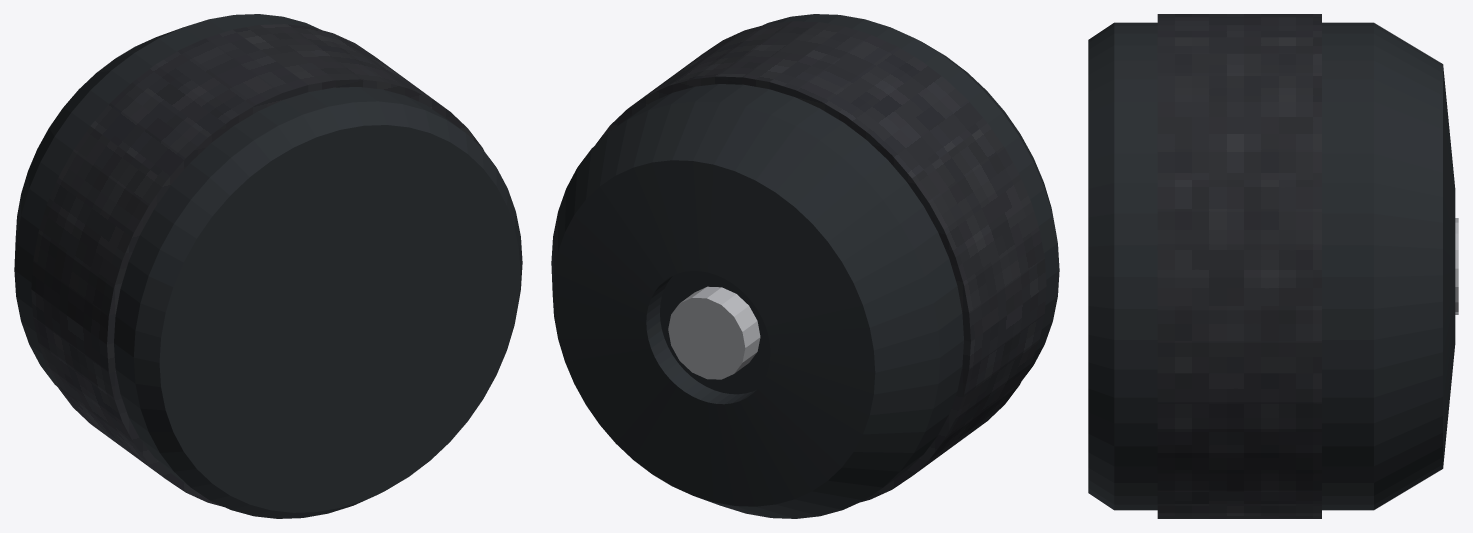
Rendered from tampa_tubo_12.glb.
3 views of the same model, side by side, from view 1: azimuth 30°, elevation 25°; view 2: azimuth 150°, elevation 25°; view 3: azimuth 270°, elevation 25° (orthographic). The views are drawn at different scales.
Visible parts, largest first — view 1: tampa_tubo_12_aco_oxidado, tampa_tubo_12_recartilhado; view 2: tampa_tubo_12_aco_oxidado, tampa_tubo_12_recartilhado, tampa_tubo_12_aco_inox; view 3: tampa_tubo_12_aco_oxidado, tampa_tubo_12_recartilhado.
Boxes of the visible parts, left/top/right/bottom form: tampa_tubo_12_aco_oxidado: left=14, top=14, right=522, bottom=518; tampa_tubo_12_recartilhado: left=31, top=24, right=483, bottom=506; tampa_tubo_12_aco_oxidado: left=551, top=14, right=1059, bottom=518; tampa_tubo_12_recartilhado: left=595, top=21, right=1046, bottom=502; tampa_tubo_12_aco_inox: left=668, top=286, right=760, bottom=379; tampa_tubo_12_aco_oxidado: left=1088, top=22, right=1455, bottom=510; tampa_tubo_12_recartilhado: left=1157, top=14, right=1321, bottom=518.
Size of the model in its own units: 0.0292 by 0.0292 by 0.0214.
Materials: 3 (1 with a texture image).
